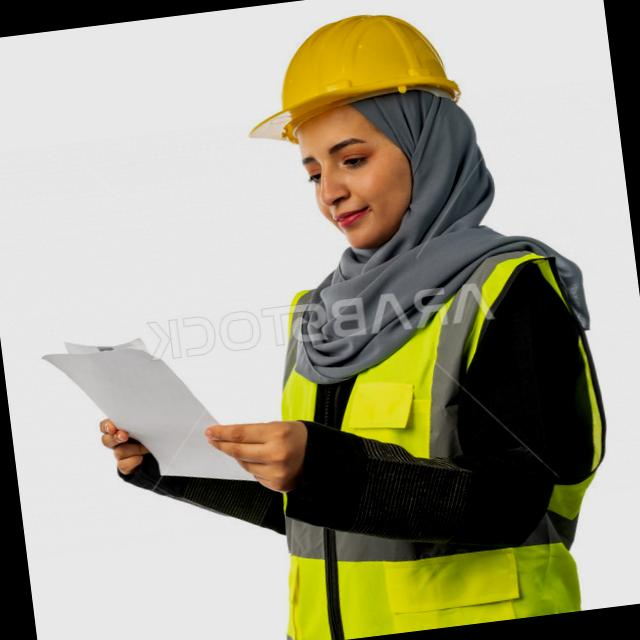helmet: (231, 0, 467, 153)
no-goggles: (263, 112, 422, 198)
vest: (228, 225, 632, 640)
